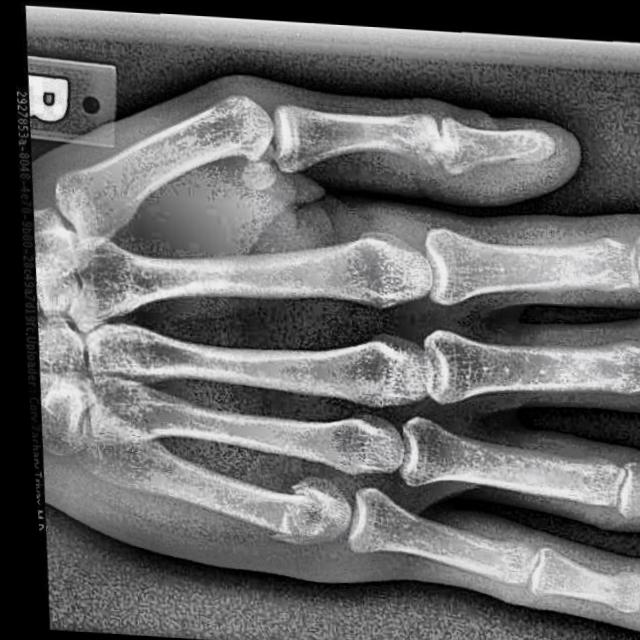fracture: (254, 477, 325, 548)
